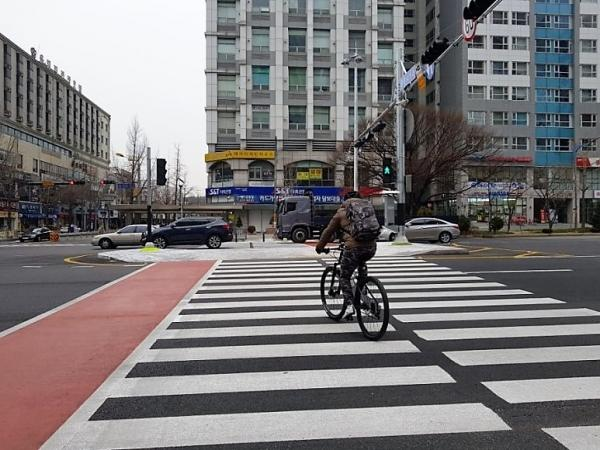crosswalk: (49, 263, 600, 450)
